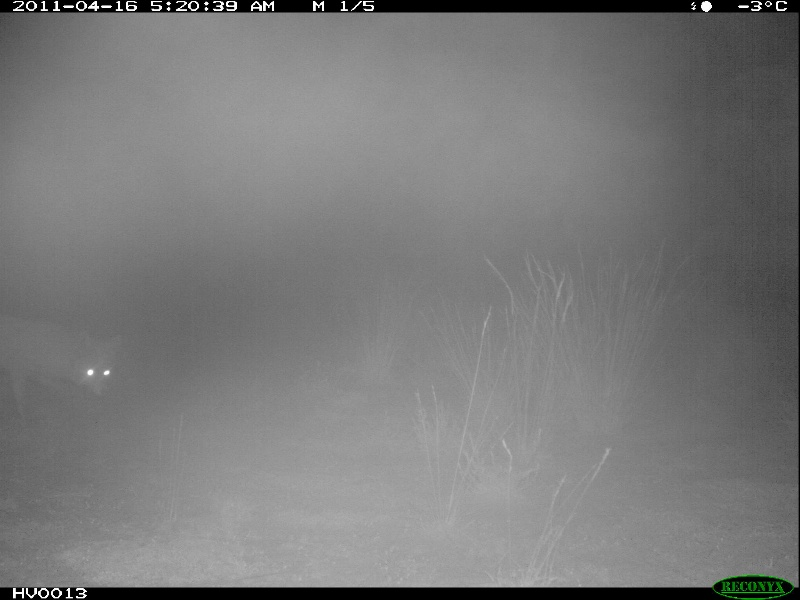fox: (1, 312, 127, 408)
